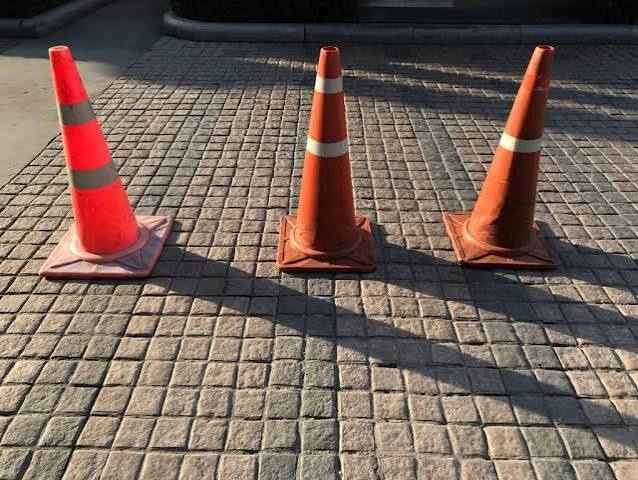safety_cone: (268, 32, 398, 283), (33, 40, 162, 288), (452, 42, 578, 279)
